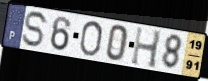0: (104, 23, 129, 63)
6: (50, 16, 73, 53)
8: (161, 33, 184, 71)
H: (130, 25, 164, 71)
O: (78, 20, 105, 57)
S: (21, 10, 51, 49)
